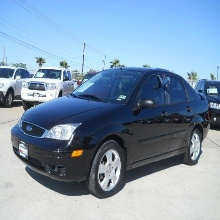no damage: (10, 67, 210, 199), (20, 67, 75, 109), (195, 78, 220, 130), (1, 65, 27, 109)
